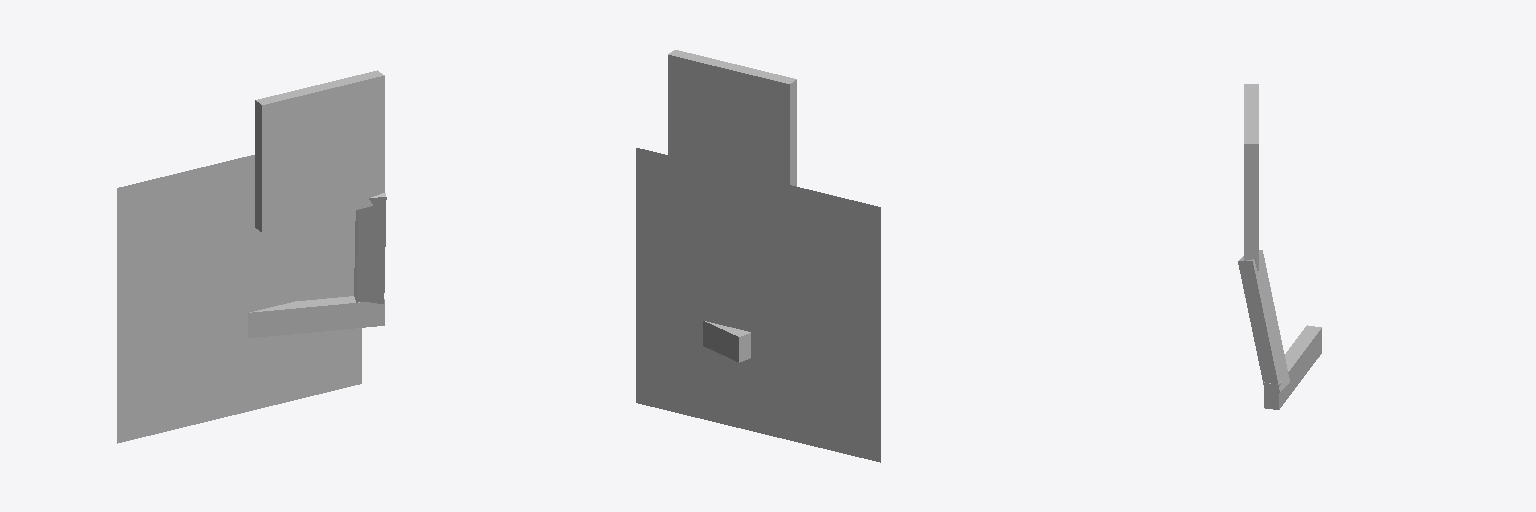
The model's file is movement_test.obj.
3 views of the same model, side by side, from view 1: azimuth 30°, elevation 25°; view 2: azimuth 150°, elevation 25°; view 3: azimuth 270°, elevation 25° (orthographic).
Visible parts, largest first — view 1: Plane, Cube.002_Cube.003, Cube_Cube.001, Cube.001_Cube.002; view 2: Plane, Cube.002_Cube.003, Cube_Cube.001; view 3: Cube.001_Cube.002, Cube.002_Cube.003, Cube_Cube.001.
Boxes of the visible parts, <box> form: Plane: <box>117,155,361,443</box>; Cube.002_Cube.003: <box>255,70,384,232</box>; Cube_Cube.001: <box>248,296,384,337</box>; Cube.001_Cube.002: <box>354,193,386,303</box>; Plane: <box>636,148,880,462</box>; Cube.002_Cube.003: <box>668,50,796,186</box>; Cube_Cube.001: <box>703,321,750,362</box>; Cube.001_Cube.002: <box>1238,250,1289,392</box>; Cube.002_Cube.003: <box>1244,84,1258,270</box>; Cube_Cube.001: <box>1264,325,1321,409</box>.
Bounding box in the file's own units: 41.16 × 52.11 × 11.96.